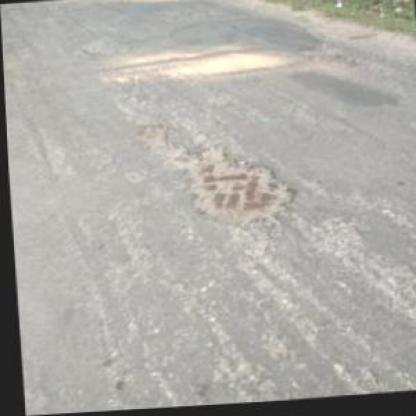pothole: (174, 140, 304, 237), (294, 44, 358, 76), (133, 123, 167, 154)
